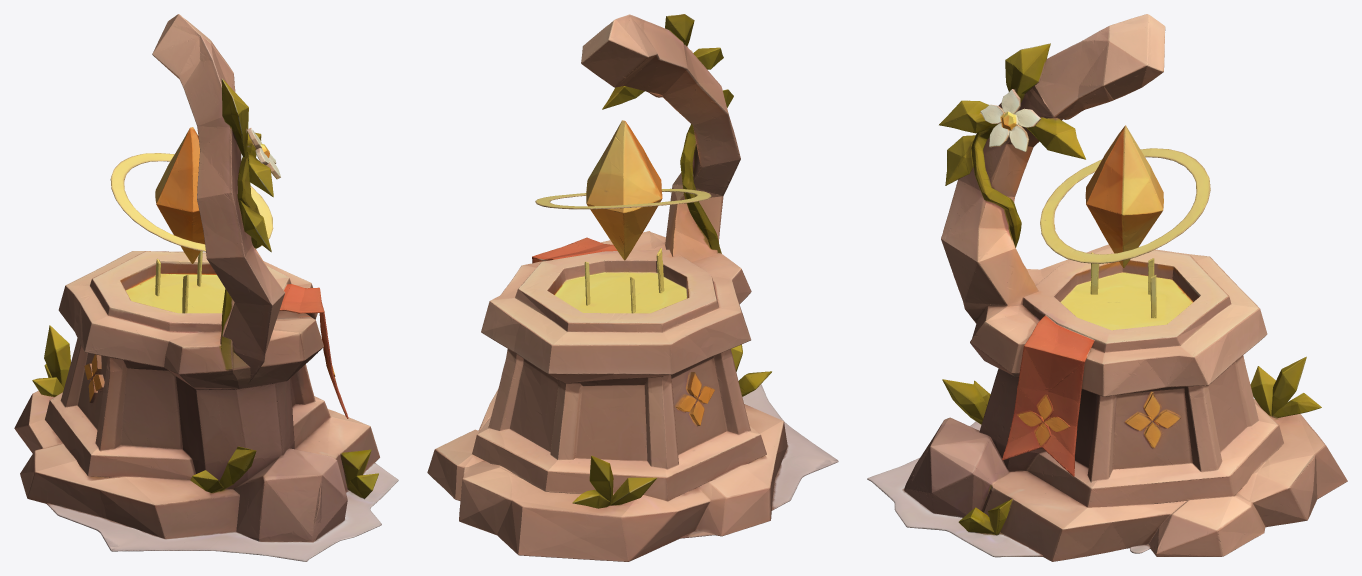
The model's file is KeepSakePedestalV1-v1.glb.
3 views of the same model, side by side, from view 1: azimuth 30°, elevation 25°; view 2: azimuth 150°, elevation 25°; view 3: azimuth 270°, elevation 25° (orthographic). The views are drawn at different scales.
Parts seen in each view (by area): view 1: tripo_node_a0f7f33c-6ba7-4ffa-a44a-4402049cc01d; view 2: tripo_node_a0f7f33c-6ba7-4ffa-a44a-4402049cc01d; view 3: tripo_node_a0f7f33c-6ba7-4ffa-a44a-4402049cc01d.
Boxes of the visible parts, x1=… form: tripo_node_a0f7f33c-6ba7-4ffa-a44a-4402049cc01d: x1=14, y1=14, x2=398, y2=561; tripo_node_a0f7f33c-6ba7-4ffa-a44a-4402049cc01d: x1=427, y1=14, x2=838, y2=561; tripo_node_a0f7f33c-6ba7-4ffa-a44a-4402049cc01d: x1=867, y1=14, x2=1347, y2=561.
Size of the model in its own units: 0.7014 by 0.9803 by 0.9102.
1 material, 1 textured.
